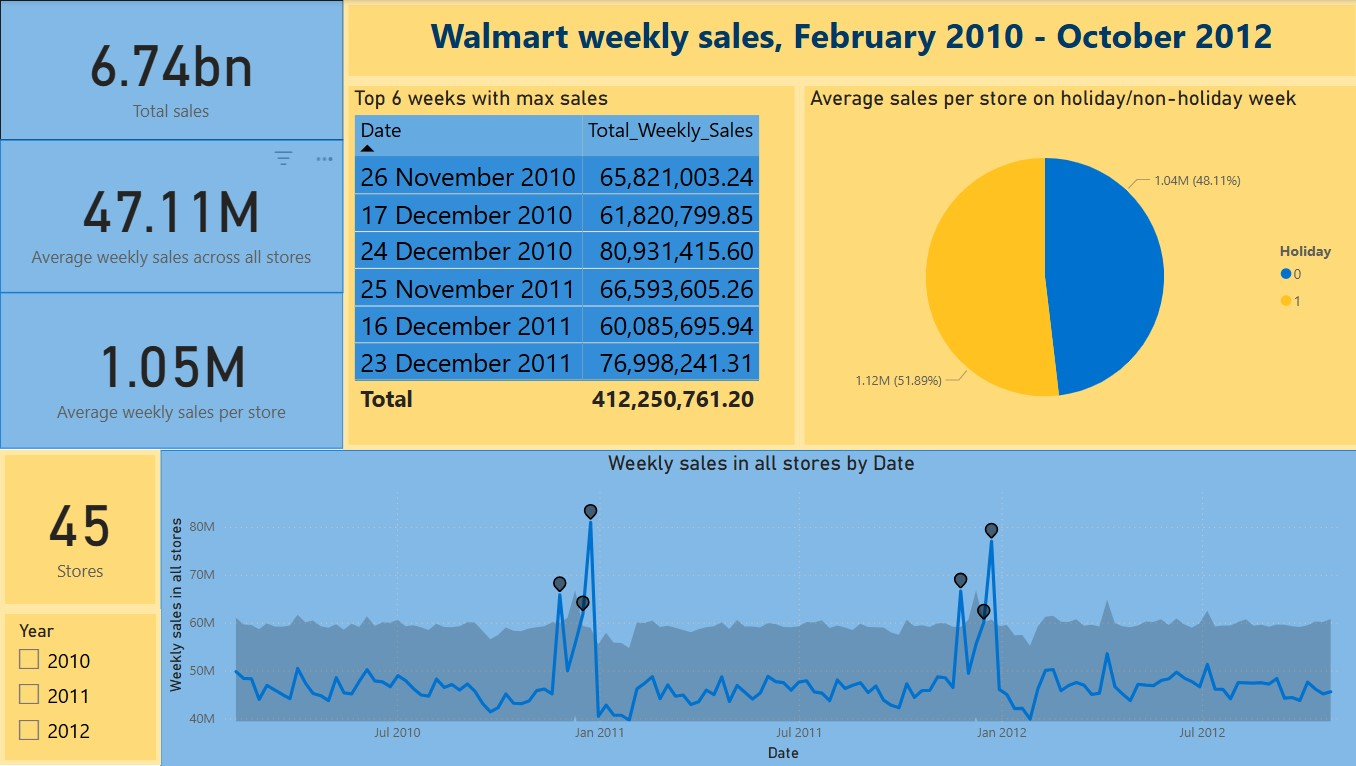

The page's visual inventory and layout, read from the dashboard file:
{"tool":"powerbi","page":{"name":"Overview","canvas":[1280,720],"ordinal":0},"visuals":[{"type":"card","fields":{"Values":["Sum(Walmart_Sales.Weekly_Sales)"]},"box":[0,0,322.5,131.7],"z":0},{"type":"lineChart","fields":{"Y":["Sum(Walmart_Sales.Weekly_Sales)"],"Category":["Walmart_Sales.Date"]},"box":[151.4,422.5,1128.1,298.3],"z":1000},{"type":"card","fields":{"Values":["Avg(Walmart_Sales.Weekly_Sales)"]},"box":[0,275.6,322.5,146.9],"z":2000},{"type":"card","fields":{"Values":["Count(Walmart_Sales.Store)"]},"box":[0,423,150.9,149.5],"z":3000},{"type":"slicer","fields":{"Values":["Walmart_Sales.Date.Variation.Date Hierarchy.Year"]},"box":[0,572.4,151.4,146.9],"z":4000},{"type":"card","fields":{"Values":["Walmart_Sales.Avg_Weekly_Sales"]},"box":[0,131.7,322.5,143.8],"z":5000},{"type":"pieChart","title":"Average sales per store on holiday/non-holiday week","fields":{"Series":["Walmart_Sales.Holiday_Flag"],"Y":["Avg(Walmart_Sales.Weekly_Sales)"]},"box":[751,75.7,528.5,346.8],"z":6000},{"type":"textbox","box":[322.9,0,955.9,76.1],"z":7000},{"type":"tableEx","title":"Top 6 weeks with max sales","fields":{"Values":["Walmart_Sales.Date","Walmart_Sales.Total_Weekly_Sales"]},"box":[322.5,75.7,428.5,346.8],"z":8000}]}

Visuals, with their boxes in screenshot pixels (x1, y1, x2, y2), scaled from the page's 1280x720 canvas onto the 1356x766 screenshot:
card - Sum(Walmart_Sales.Weekly_Sales): (0, 0, 342, 140)
lineChart - Sum(Walmart_Sales.Weekly_Sales) x Walmart_Sales.Date: (160, 449, 1355, 765)
card - Avg(Walmart_Sales.Weekly_Sales): (0, 293, 342, 449)
card - Count(Walmart_Sales.Store): (0, 450, 160, 609)
slicer - Walmart_Sales.Date.Variation.Date Hierarchy.Year: (0, 609, 160, 765)
card - Walmart_Sales.Avg_Weekly_Sales: (0, 140, 342, 293)
"Average sales per store on holiday/non-holiday week" pieChart: (796, 81, 1355, 449)
textbox: (342, 0, 1355, 81)
"Top 6 weeks with max sales" tableEx: (342, 81, 796, 449)
